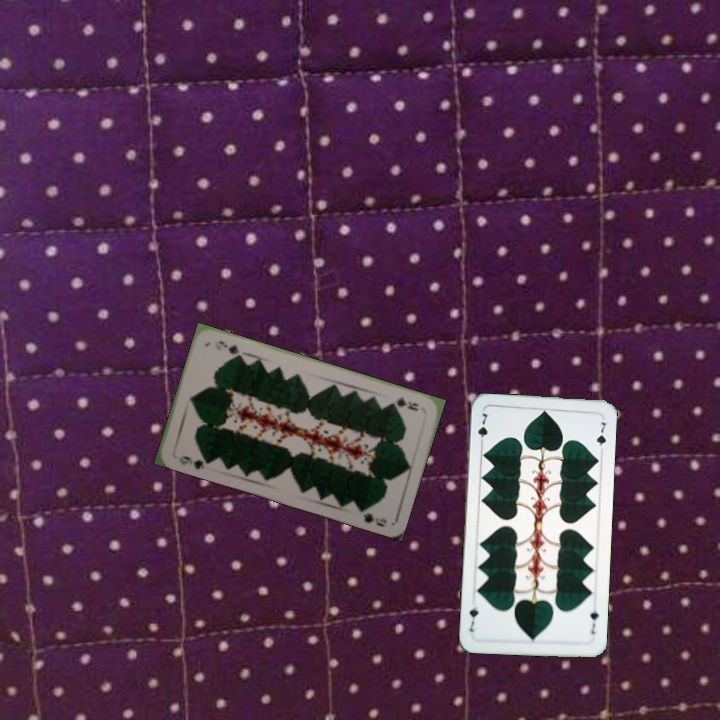G7: (474, 409, 490, 448), (586, 607, 601, 637)
G9: (175, 452, 212, 472), (387, 393, 421, 414)
